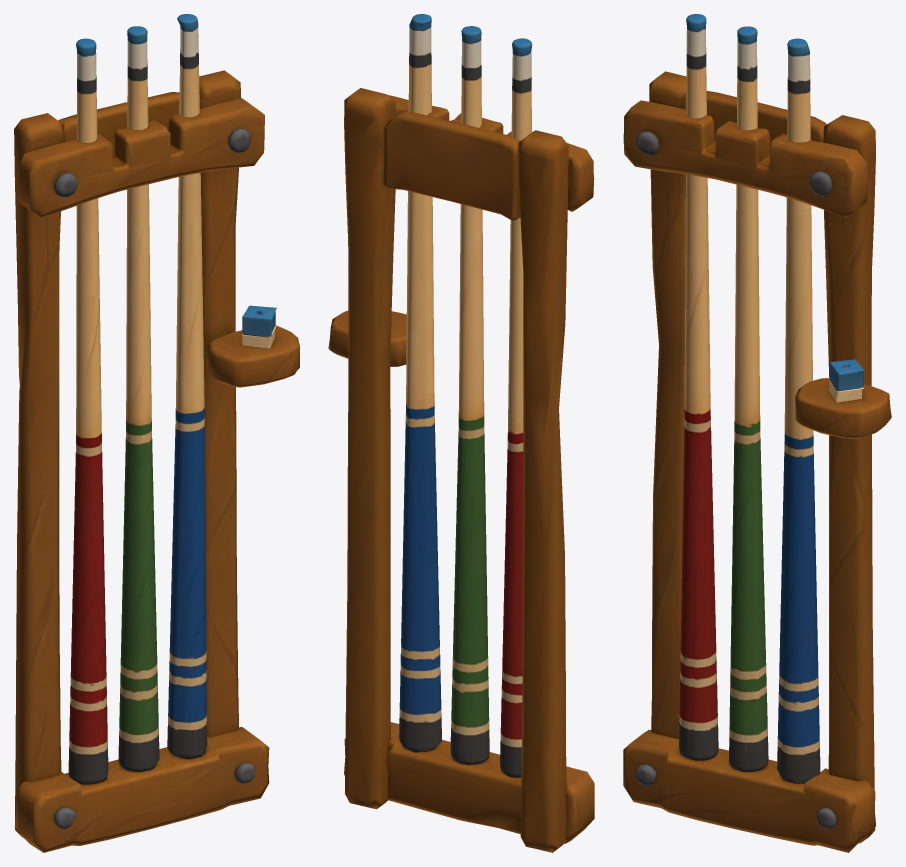
The model's file is billard_rack.glb.
3 views of the same model, side by side, from view 1: azimuth 30°, elevation 25°; view 2: azimuth 150°, elevation 25°; view 3: azimuth 330°, elevation 25° (orthographic).
Visible parts, largest first — view 1: geometry_0; view 2: geometry_0; view 3: geometry_0.
Part boxes in pixels (x1,y1,x2,y2): geometry_0: [14, 14, 299, 852]; geometry_0: [328, 14, 594, 852]; geometry_0: [623, 14, 891, 852].
Size of the model in its own units: 0.3296 by 0.9507 by 0.1093.
1 material, 1 textured.
